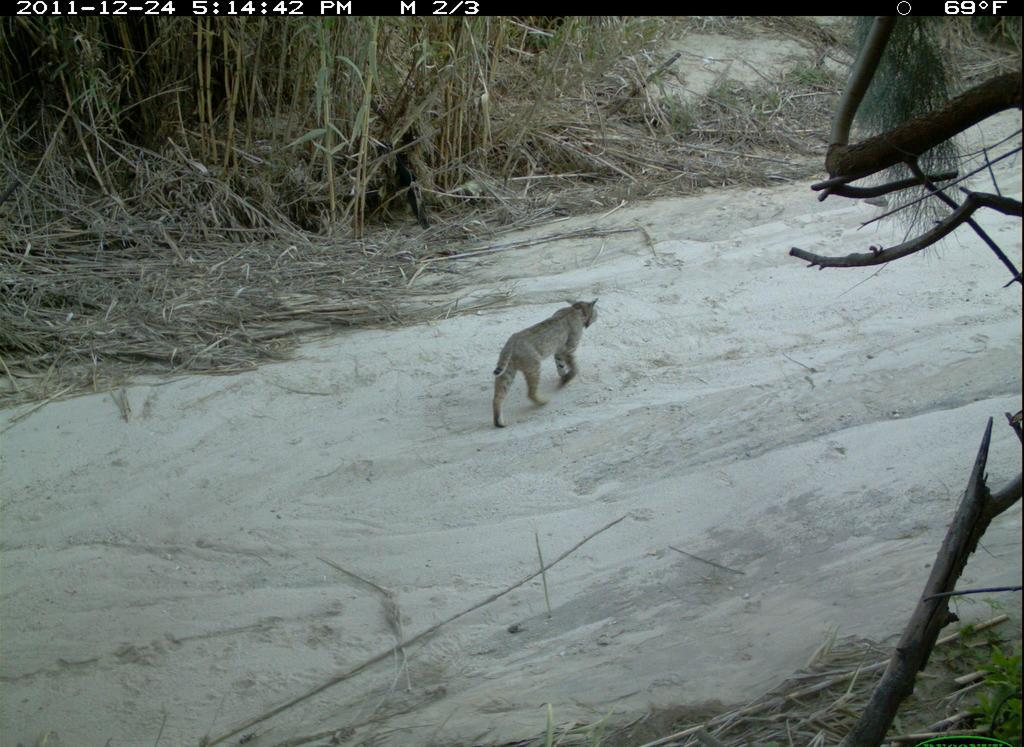bobcat: (479, 277, 624, 445)
